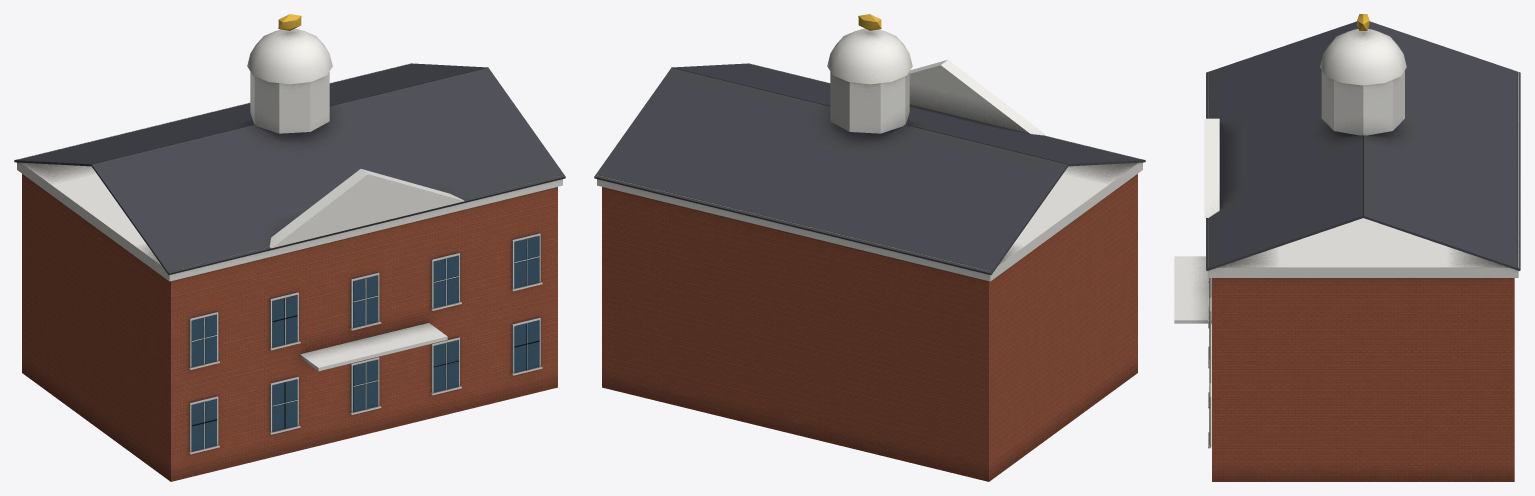
File: old_state_house.glb
3 views of the same model, side by side, from view 1: azimuth 30°, elevation 25°; view 2: azimuth 150°, elevation 25°; view 3: azimuth 270°, elevation 25° (orthographic).
Parts seen in each view (by area): view 1: old_state_house; view 2: old_state_house; view 3: old_state_house.
Part boxes in pixels (x1,y1,x2,y2): old_state_house: (14,14,565,481); old_state_house: (594,14,1145,481); old_state_house: (1174,14,1520,481).
Bounding box in the file's own units: 24.6 × 21.7 × 18.32.
1 material, 1 textured.
